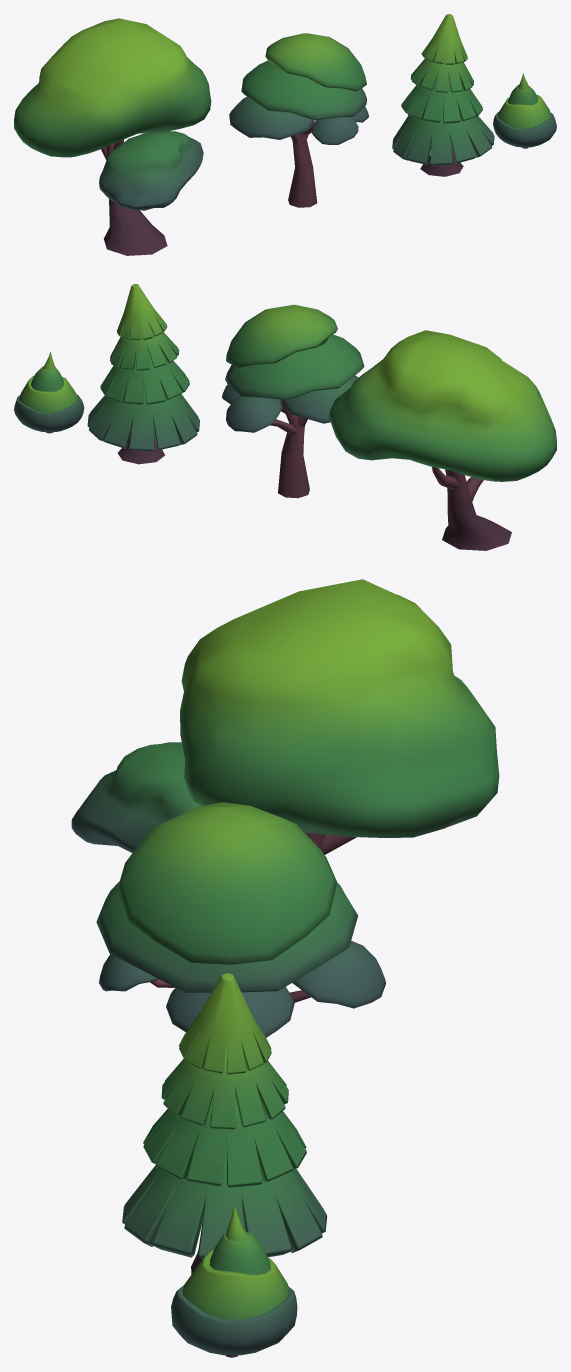
The model's file is Trees.fbx.
3 views of the same model, one above another, from view 1: azimuth 30°, elevation 25°; view 2: azimuth 150°, elevation 25°; view 3: azimuth 270°, elevation 25° (orthographic). The views are drawn at different scales.
Visible parts, largest first — view 1: Tree.026, Tree.007, Tree.010, Tree.003; view 2: Tree.026, Tree.007, Tree.010, Tree.003; view 3: Tree.026, Tree.007, Tree.010, Tree.003.
Boxes of the visible parts, x1=… form: Tree.026: x1=14, y1=18, x2=211, y2=255; Tree.007: x1=229, y1=33, x2=368, y2=207; Tree.010: x1=392, y1=14, x2=494, y2=176; Tree.003: x1=493, y1=73, x2=556, y2=148; Tree.026: x1=328, y1=330, x2=556, y2=550; Tree.007: x1=222, y1=304, x2=364, y2=498; Tree.010: x1=87, y1=284, x2=199, y2=464; Tree.003: x1=14, y1=352, x2=84, y2=433; Tree.026: x1=71, y1=579, x2=499, y2=854; Tree.007: x1=96, y1=802, x2=385, y2=1037; Tree.010: x1=122, y1=973, x2=327, y2=1274; Tree.003: x1=171, y1=1206, x2=297, y2=1357.
Size of the model in its own units: 18.19 by 6.64 by 6.65.
1 material, 1 textured.
